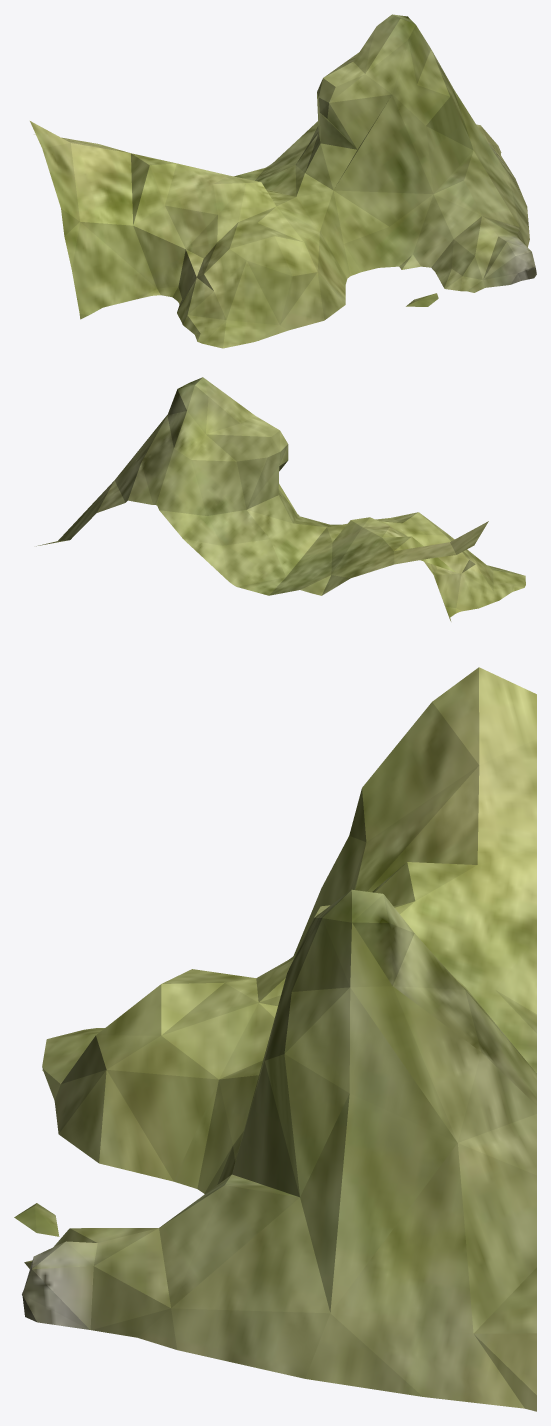
3 renders of one model, top to bottom at view 1: azimuth 30°, elevation 25°; view 2: azimuth 150°, elevation 25°; view 3: azimuth 270°, elevation 25°, orthographic. The views are drawn at different scales.
Size of the model in its own units: 2.5 by 1.02 by 1.25.
1 material, 1 textured.
